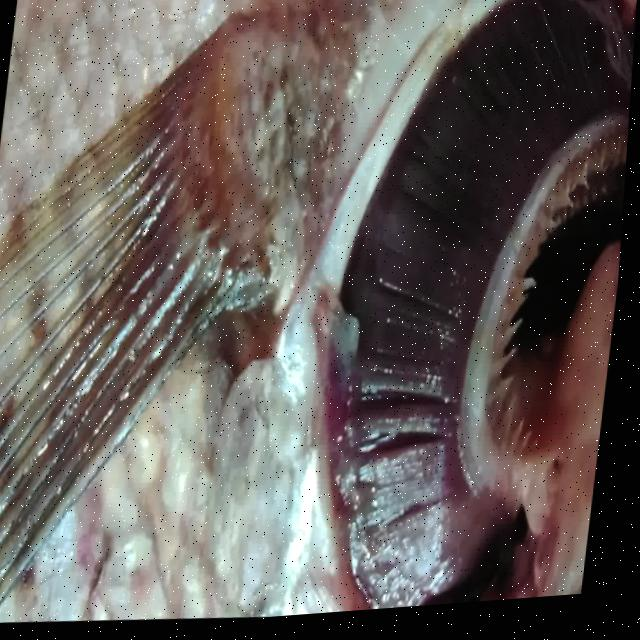Non-Fresh: (285, 0, 639, 621)
